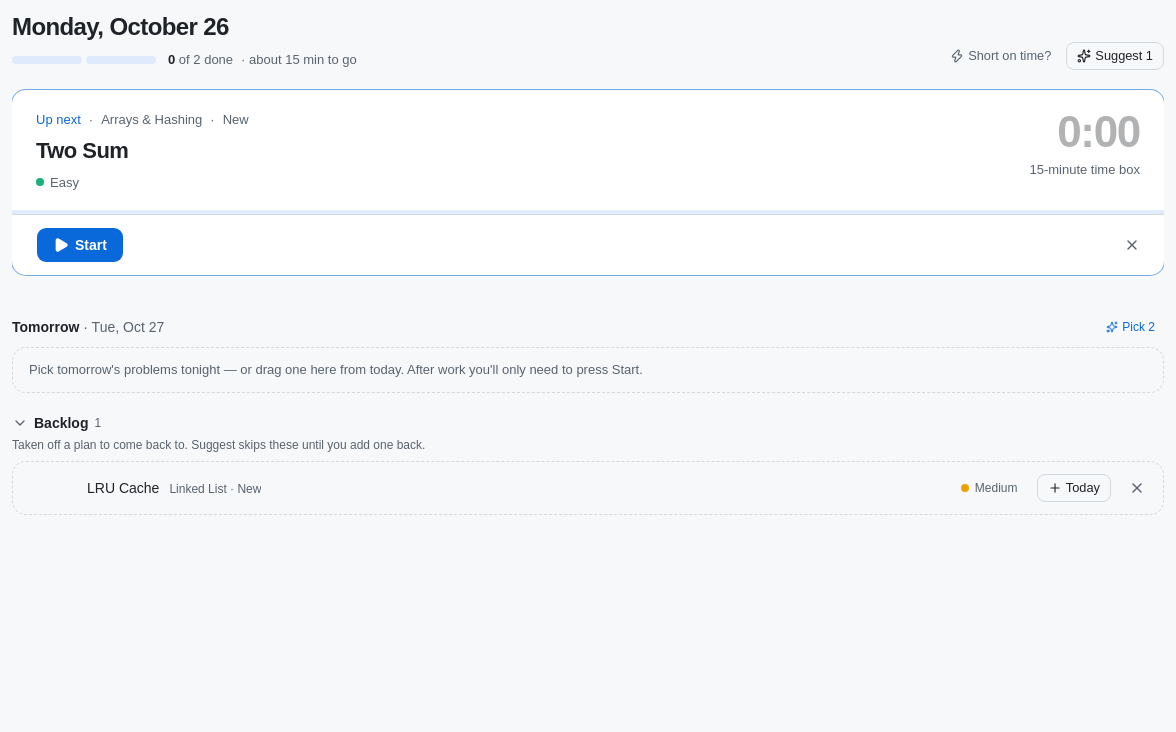
Test: TodayView › keeps what you set aside in a backlog, ready to plan again
Expected: the list named "Backlog" shows "LRU Cache", [87, 478, 159, 498]
Click the button with aria-label "Add LRU Cache to today" at (1074, 488), box [1037, 474, 1111, 502]
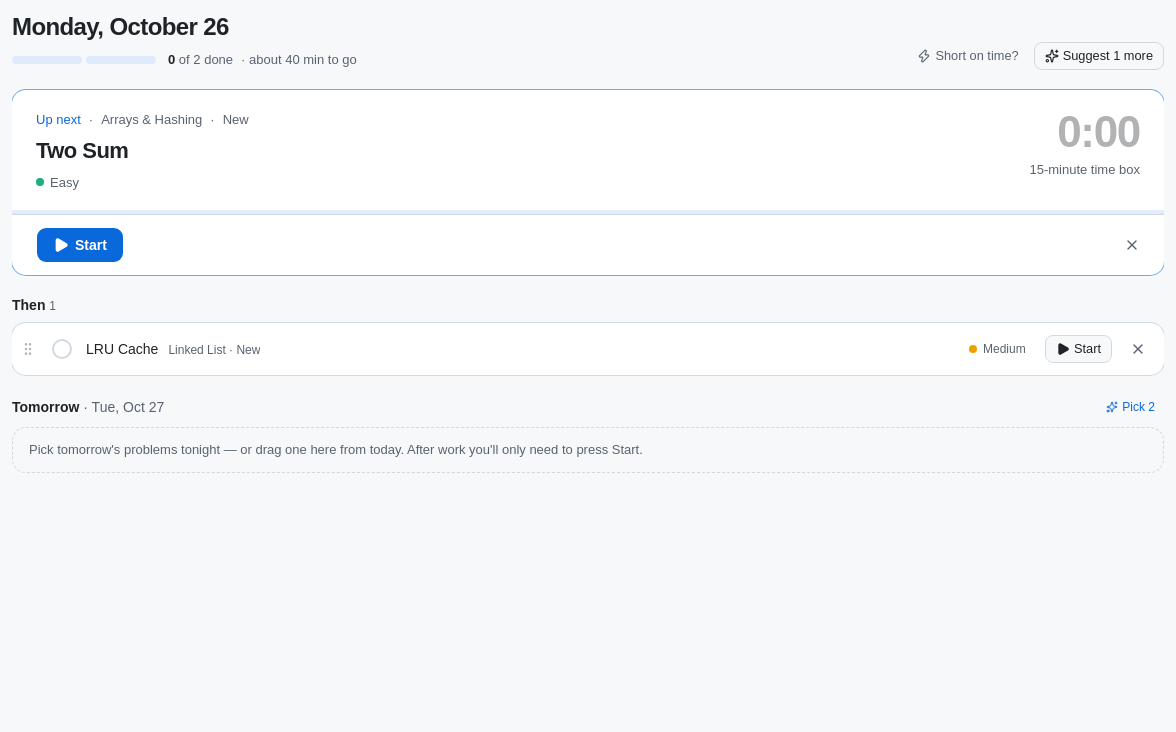
Now the heading "Backlog" is gone
